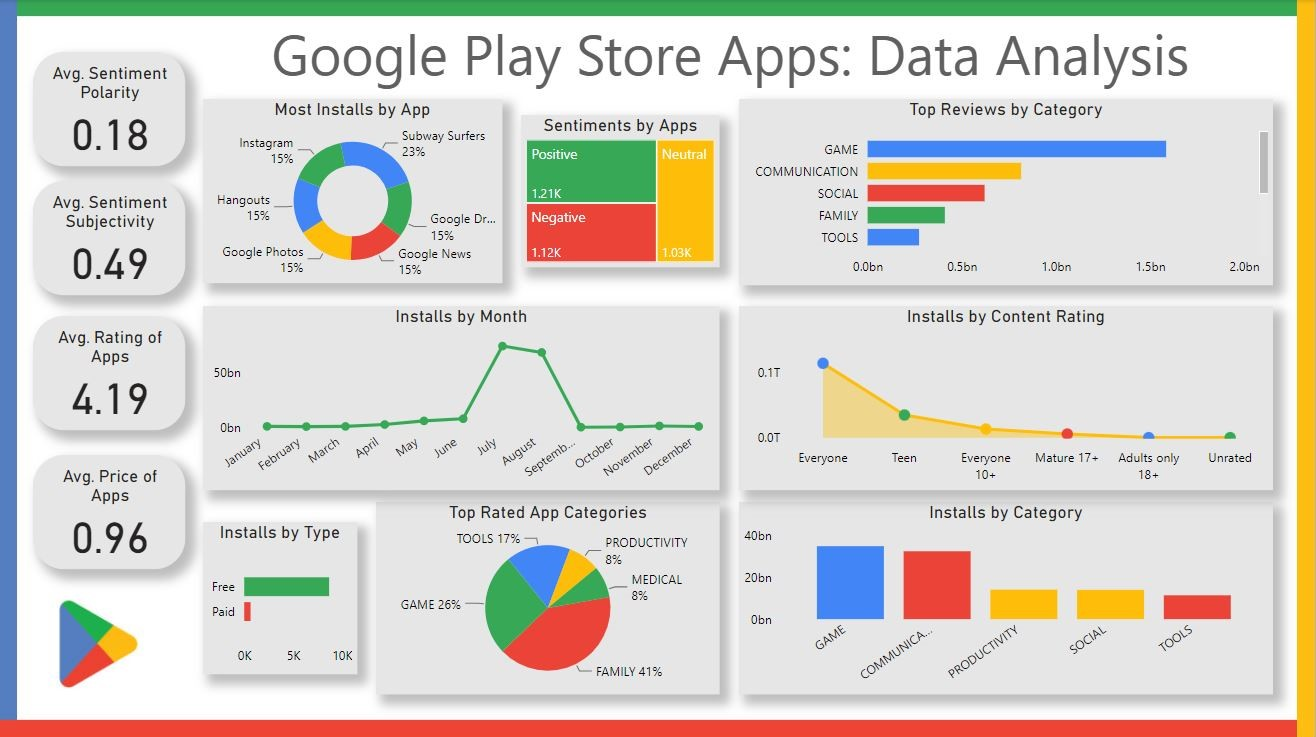

The dashboard page shown, as its layout file describes it:
{"tool":"powerbi","page":{"name":"Page 1","canvas":[1280,720],"ordinal":0},"visuals":[{"type":"textbox","box":[232.3,9.7,959.3,101.1],"z":0},{"type":"card","title":"Avg. Sentiment Polarity","fields":{"Values":["Avg(googleplaystore_user_reviews (2).Sentiment_Polarity)"]},"box":[34,50.5,147.7,110.8],"z":1000},{"type":"card","title":"Avg. Sentiment Subjectivity","fields":{"Values":["Avg(googleplaystore_user_reviews (2).Sentiment_Subjectivity)"]},"box":[34,175.9,147.7,110.8],"z":2000},{"type":"card","title":"Avg. Rating of Apps","fields":{"Values":["Avg(googleplaystore (2).Rating)"]},"box":[34,307.1,147.7,110.8],"z":3000},{"type":"card","title":"Avg. Price of Apps","fields":{"Values":["Avg(googleplaystore (2).Price)"]},"box":[34,442.2,147.7,110.8],"z":4000},{"type":"barChart","title":"Top Reviews by Category","fields":{"Y":["Sum(googleplaystore (2).Reviews)"],"Category":["googleplaystore (2).Category"]},"box":[720.2,96.2,519,180.8],"z":5000},{"type":"columnChart","title":"Installs by Category","fields":{"Category":["googleplaystore (2).Category"],"Y":["Sum(googleplaystore (2).Installs)"]},"box":[720.2,487.9,519,186.6],"z":6000},{"type":"donutChart","title":"Most Installs by App","fields":{"Category":["googleplaystore (2).App"],"Y":["Sum(googleplaystore (2).Installs)"]},"box":[199.2,96.2,290.6,178.8],"z":7000},{"type":"barChart","title":"Installs by Type","fields":{"Category":["googleplaystore (2).Type"],"Y":["CountNonNull(googleplaystore (2).Category)"]},"box":[199.2,507.3,149.7,147.7],"z":8000},{"type":"pieChart","title":"Top Rated App Categories","fields":{"Category":["googleplaystore (2).Category"],"Y":["Sum(googleplaystore (2).Rating)"]},"box":[367.4,487.9,334.3,186.6],"z":9000},{"type":"treemap","title":"Sentiments by Apps","fields":{"Group":["googleplaystore_user_reviews (2).Sentiment"],"Values":["CountNonNull(googleplaystore (2).App)"]},"box":[508.3,111.8,193.4,147.7],"z":10000},{"type":"areaChart","title":"Installs by Content Rating","fields":{"Y":["Sum(googleplaystore (2).Installs)"],"Category":["googleplaystore (2).Content Rating"]},"box":[720.2,297.4,519,178.8],"z":11000},{"type":"lineChart","title":"Installs by Month","fields":{"Y":["Sum(googleplaystore (2).Installs)"],"Category":["googleplaystore (2).Last Updated.Variation.Date Hierarchy.Year","googleplaystore (2).Last Updated.Variation.Date Hierarchy.Quarter","googleplaystore (2).Last Updated.Variation.Date Hierarchy.Month","googleplaystore (2).Last Updated.Variation.Date Hierarchy.Day"]},"box":[199.2,297.4,502.5,178.8],"z":12000}]}

Visuals, with their boxes in screenshot pixels (x1, y1, x2, y2), scaled from the page's 1280x720 canvas onto the 1316x737 screenshot:
textbox: select_region(239, 10, 1225, 113)
"Avg. Sentiment Polarity" card: select_region(35, 52, 187, 165)
"Avg. Sentiment Subjectivity" card: select_region(35, 180, 187, 293)
"Avg. Rating of Apps" card: select_region(35, 314, 187, 428)
"Avg. Price of Apps" card: select_region(35, 453, 187, 566)
"Top Reviews by Category" barChart: select_region(740, 98, 1274, 284)
"Installs by Category" columnChart: select_region(740, 499, 1274, 690)
"Most Installs by App" donutChart: select_region(205, 98, 504, 281)
"Installs by Type" barChart: select_region(205, 519, 359, 670)
"Top Rated App Categories" pieChart: select_region(378, 499, 721, 690)
"Sentiments by Apps" treemap: select_region(523, 114, 721, 266)
"Installs by Content Rating" areaChart: select_region(740, 304, 1274, 487)
"Installs by Month" lineChart: select_region(205, 304, 721, 487)
